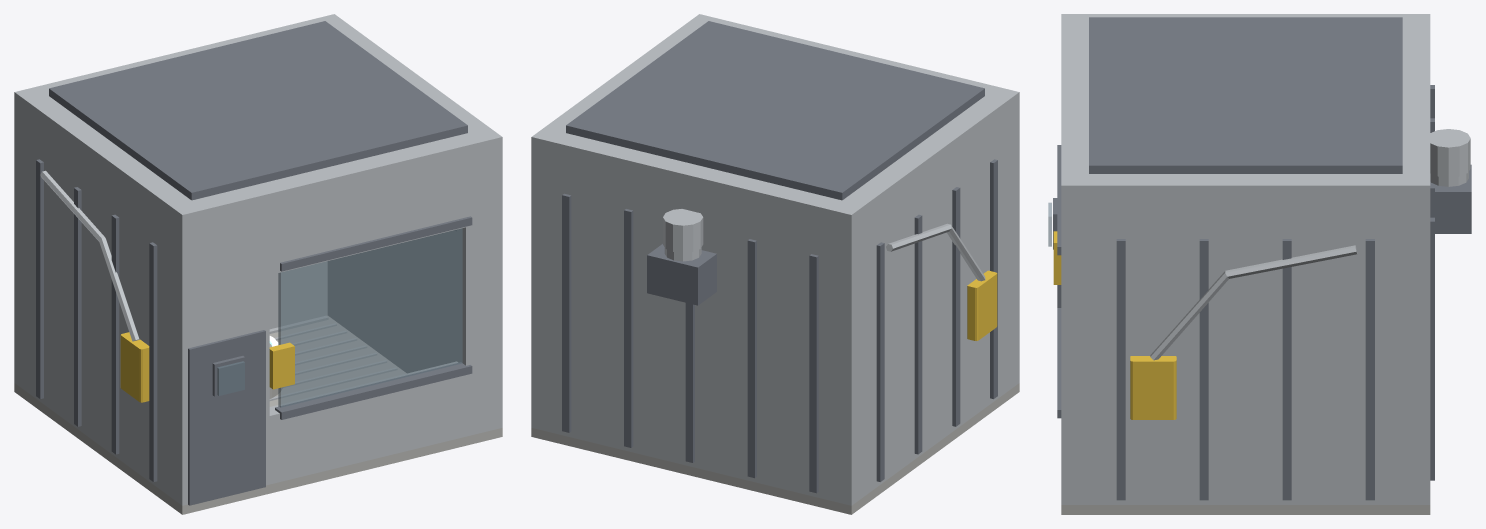
File: ufo-crash-site-and-recovery-facility-containment-cell-99f49e6b__17359.glb
3 views of the same model, side by side, from view 1: azimuth 30°, elevation 25°; view 2: azimuth 150°, elevation 25°; view 3: azimuth 270°, elevation 25° (orthographic). The views are drawn at different scales.
Parts seen in each view (by area): view 1: containment-cell, door; view 2: containment-cell; view 3: containment-cell.
Boxes of the visible parts, bbox=[...] form: containment-cell: bbox=[14, 14, 502, 514]; door: bbox=[188, 330, 265, 505]; containment-cell: bbox=[531, 14, 1019, 514]; containment-cell: bbox=[1048, 14, 1471, 514].
Bounding box in the file's own units: 4.68 × 4.04 × 4.59.
